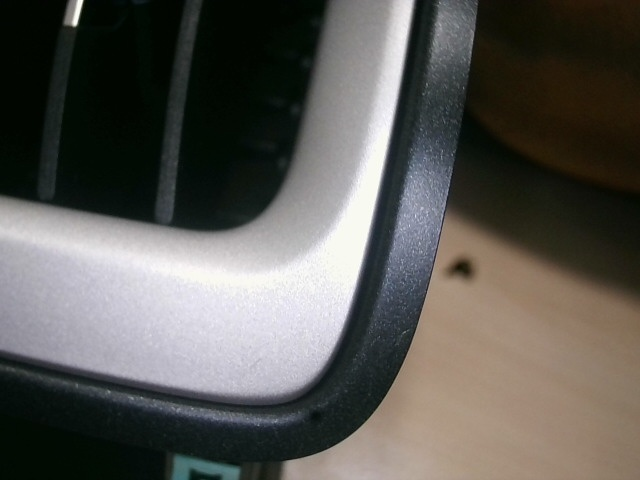NG: (242, 347, 269, 372), (393, 323, 413, 348)
